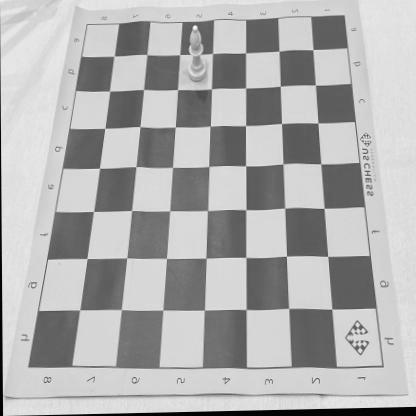white-bishop: (187, 26, 208, 84)
